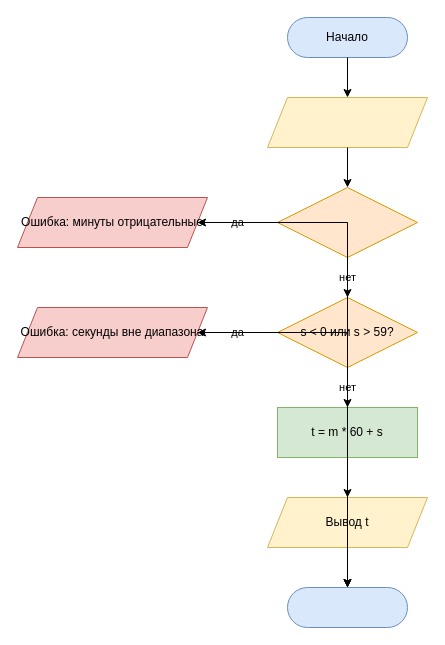
The diagram is 445 pixels wide and 645 high, and some of its shapes have lost their labels. The box of each missing label's shape, as (x1, y1, x2, y2) in pixels:
m < 0?: (276, 186, 418, 258)
Ввод m, s: (266, 96, 428, 148)
Конец: (286, 586, 408, 628)
